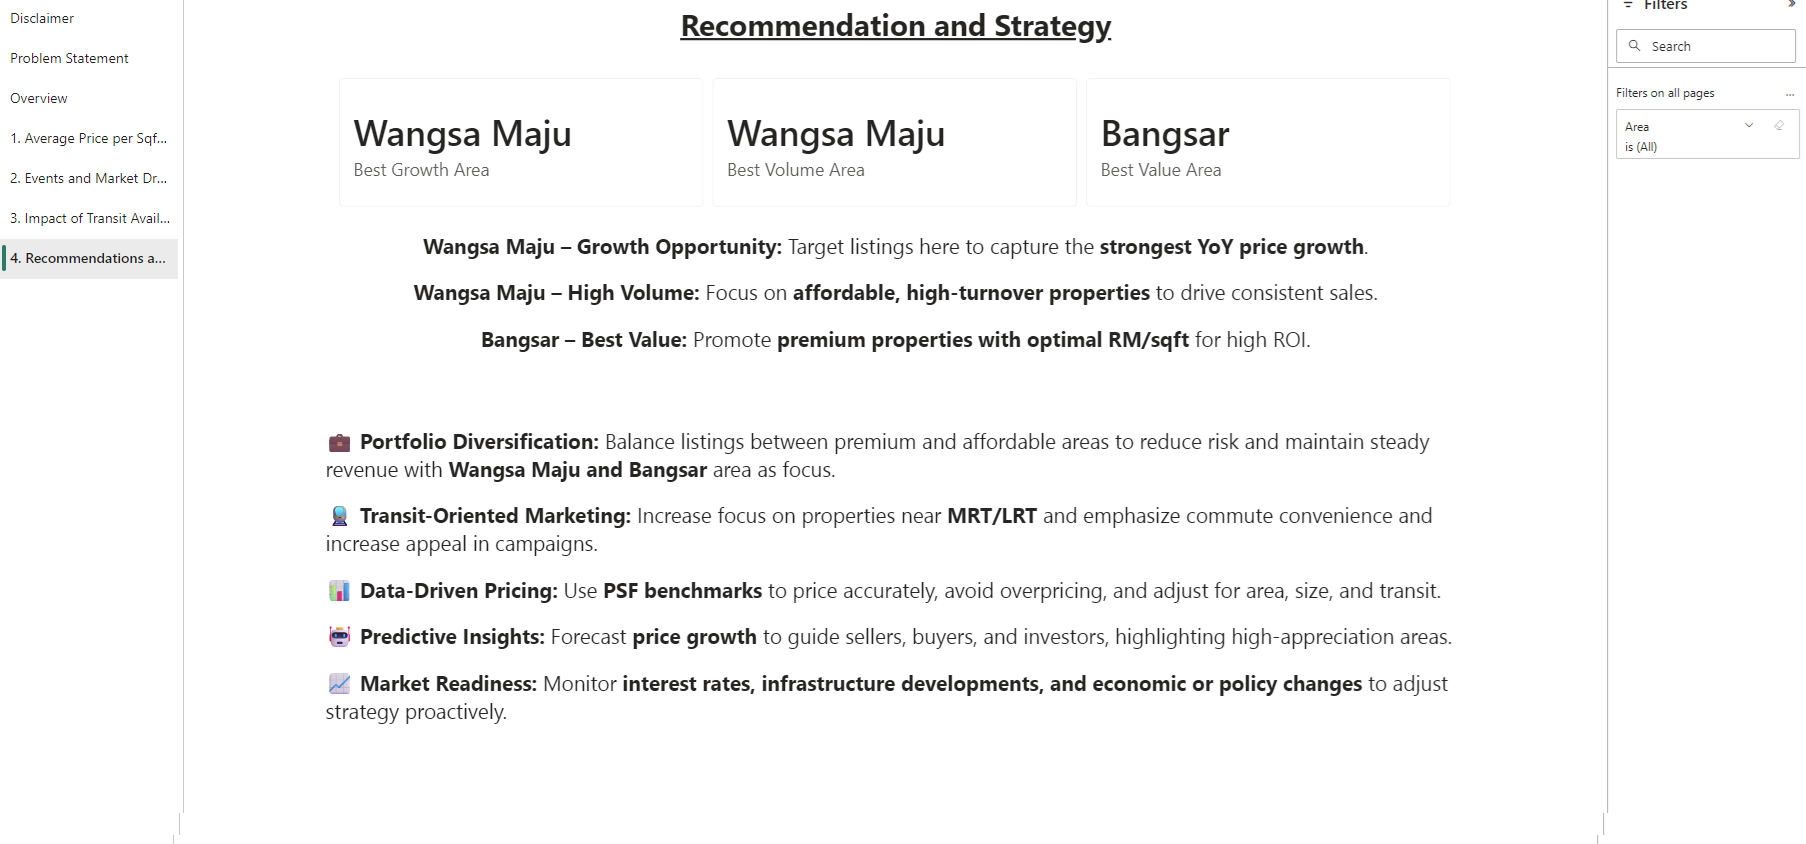

Layout of this report page (visuals, bound fields, positions):
{"tool":"powerbi","page":{"name":"4. Recommendations and Strategy","canvas":[1280,720],"ordinal":6},"visuals":[{"type":"textbox","box":[135.7,12.4,1008.7,54.9],"z":0},{"type":"cardVisual","fields":{"Data":["Date Table.Best Growth Area","Date Table.Best Volume Area","Date Table.Best Value Area"]},"box":[122.2,67.3,1035.6,150.2],"z":3},{"type":"textbox","box":[122.2,217.5,1035.6,142.9],"z":4},{"type":"textbox","box":[122.2,393.5,1035.6,301.4],"z":5}]}

Visuals, with their boxes on the page's 1280x720 design canvas (x1, y1, x2, y2). These are canvas units, not pixel positions in the 1806x844 screenshot, which may show the page scaled, cropped or inside an application window:
textbox: <bbox>136, 12, 1144, 67</bbox>
cardVisual - Date Table.Best Growth Area x Date Table.Best Volume Area: <bbox>122, 67, 1158, 218</bbox>
textbox: <bbox>122, 218, 1158, 360</bbox>
textbox: <bbox>122, 394, 1158, 695</bbox>
